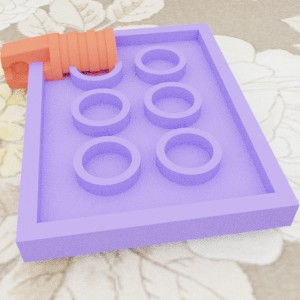lego: (15, 22, 300, 262), (0, 28, 118, 90)
